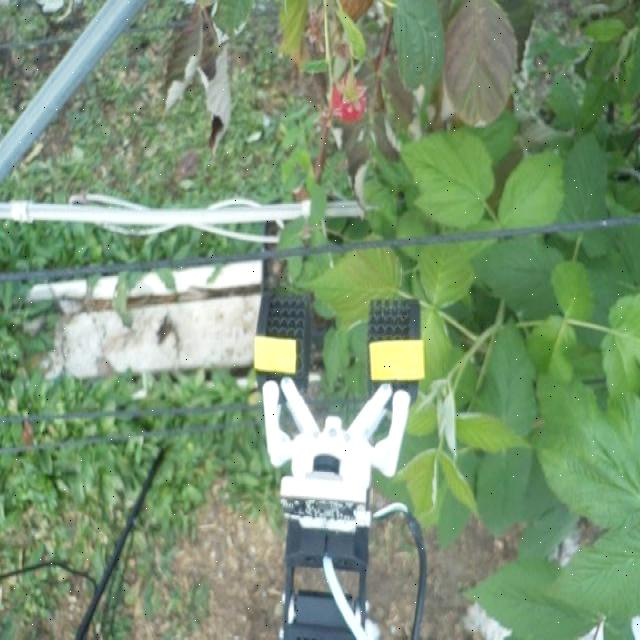Riped berries: (327, 72, 368, 124)
